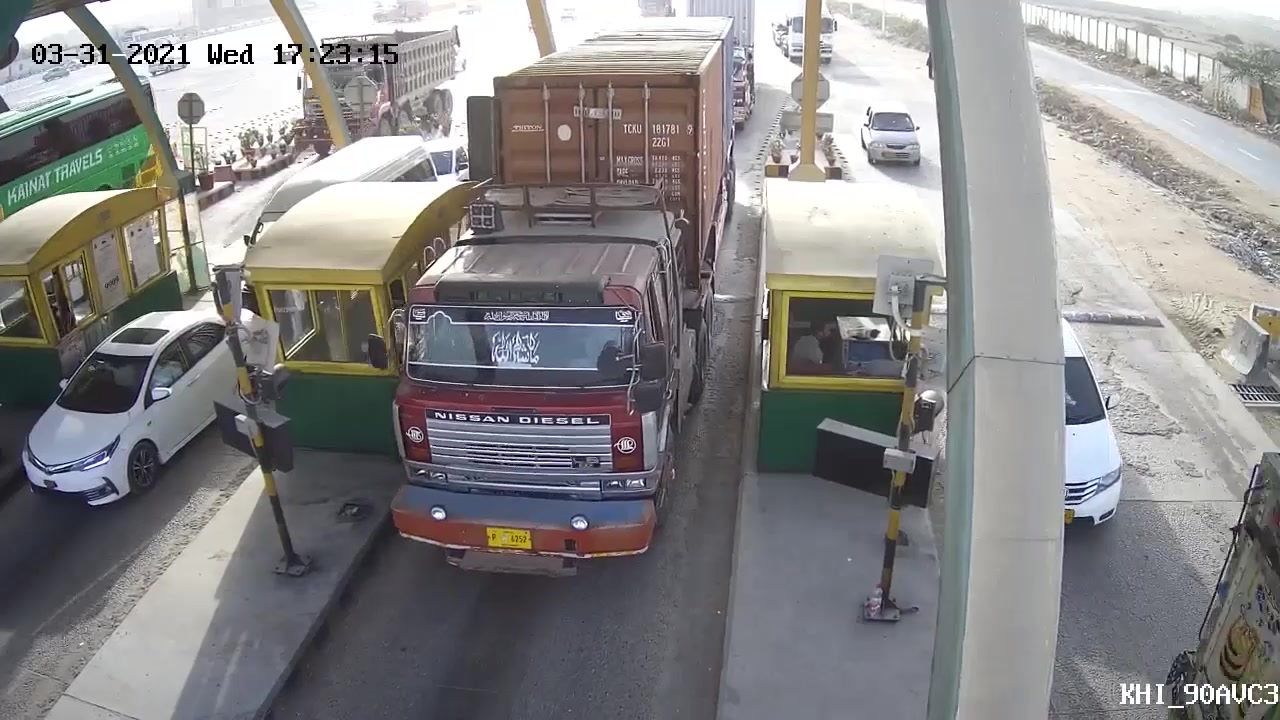F6: (386, 16, 749, 581)
